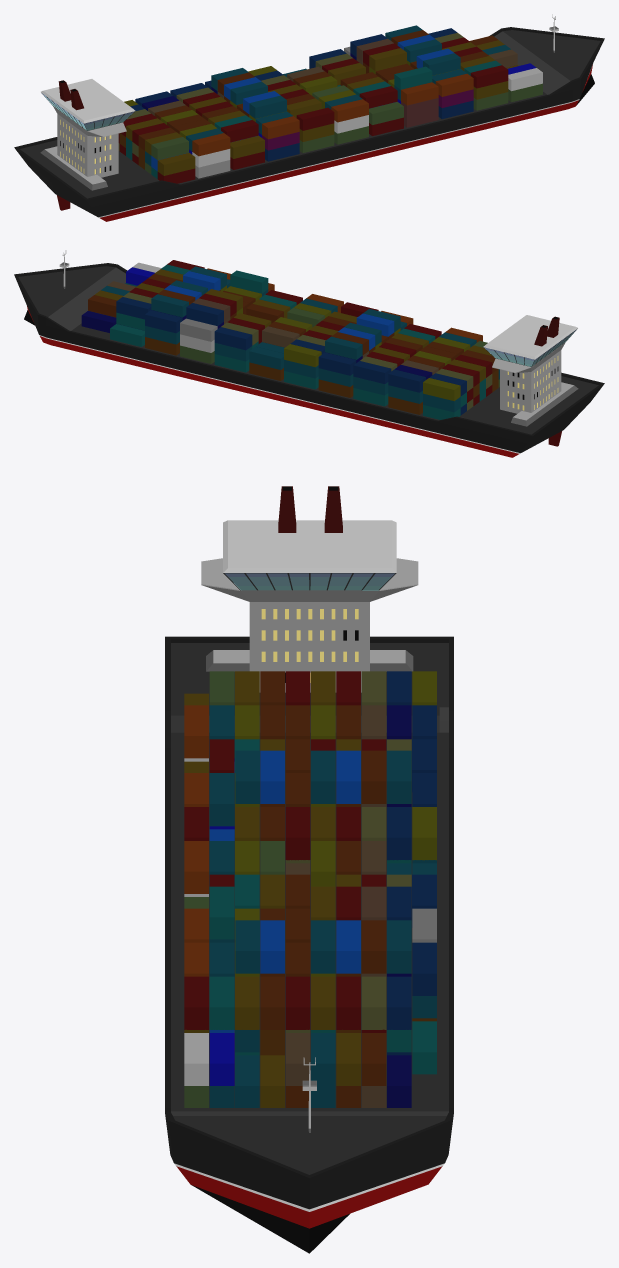
Rendered from mdl_Duc_CargoShip_Joined_1.1.glb.
3 views of the same model, one above another, from view 1: azimuth 30°, elevation 25°; view 2: azimuth 150°, elevation 25°; view 3: azimuth 270°, elevation 25° (orthographic). The views are drawn at different scales.
Parts seen in each view (by area): view 1: Bridge Small Windows; view 2: Bridge Small Windows; view 3: Bridge Small Windows.
Part boxes in pixels (x1,y1,x2,y2): Bridge Small Windows: (14, 14, 604, 221); Bridge Small Windows: (14, 250, 604, 457); Bridge Small Windows: (165, 486, 453, 1253).
Size of the model in its own units: 8.86 by 1.92 by 2.
Materials: 2 (2 with a texture image).
